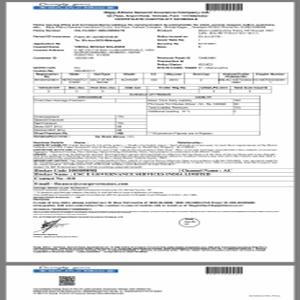table: (34, 97, 262, 138), (31, 72, 288, 84), (33, 86, 270, 95)
text: (31, 22, 281, 71), (32, 140, 282, 167), (32, 243, 271, 257), (103, 10, 210, 21)
